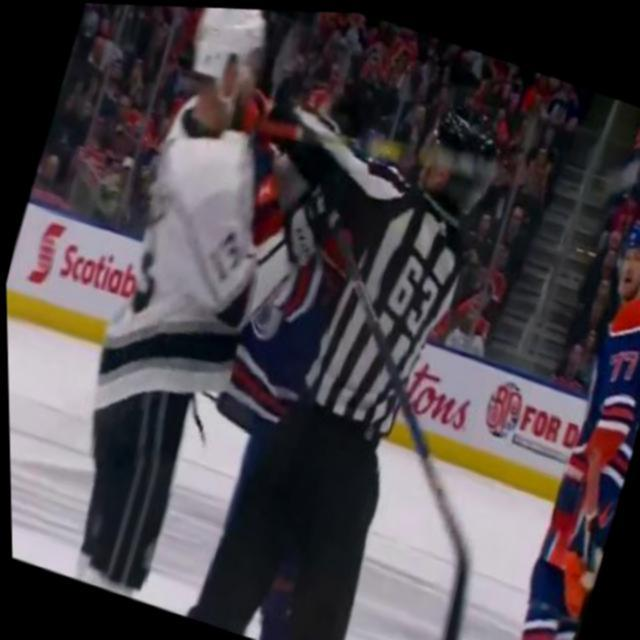fight: (37, 1, 530, 640)
